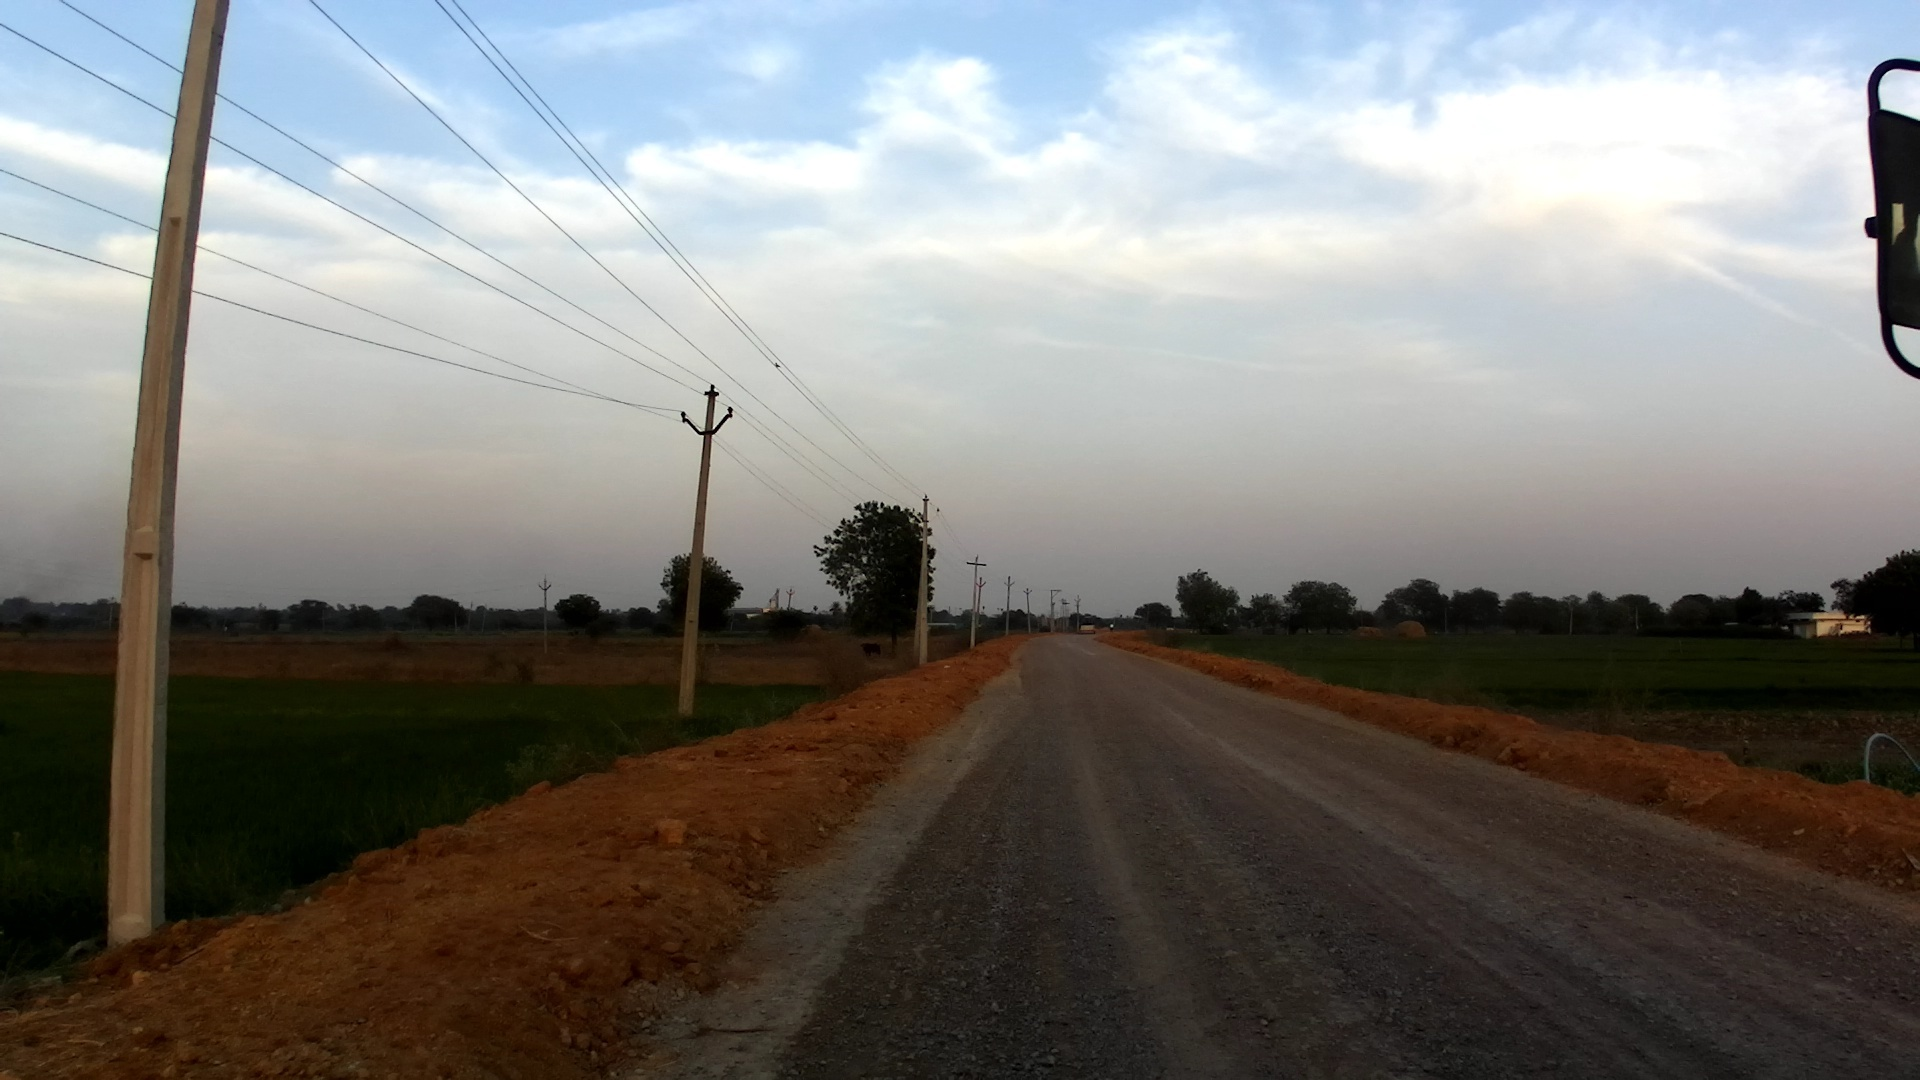animal: (861, 640, 880, 661)
bus: (1870, 55, 1920, 377)
vehicle fallback: (1077, 621, 1096, 640), (1106, 622, 1117, 632)
